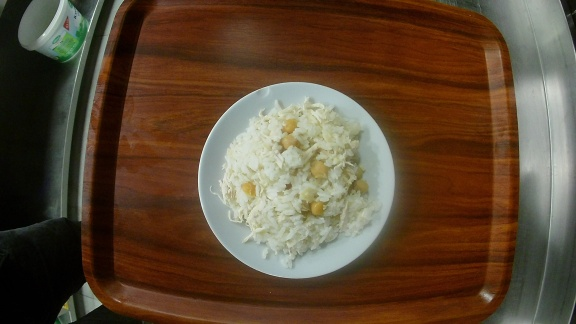nohutlupilav: (197, 81, 397, 279)
